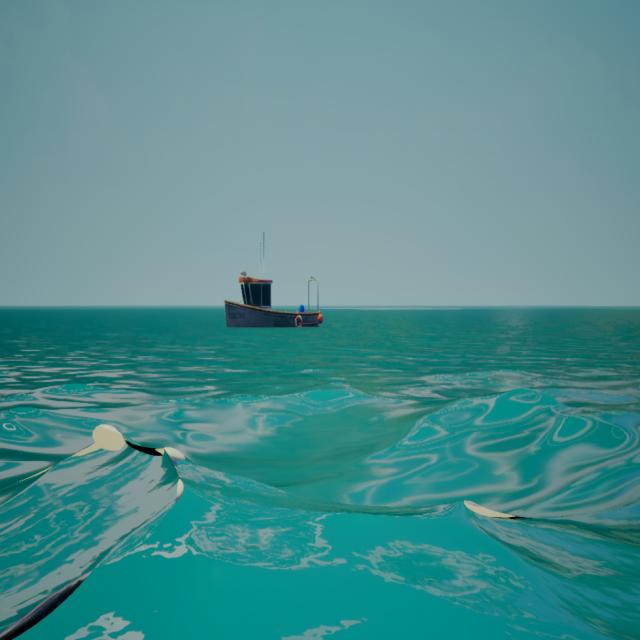ship: (220, 220, 332, 338)
